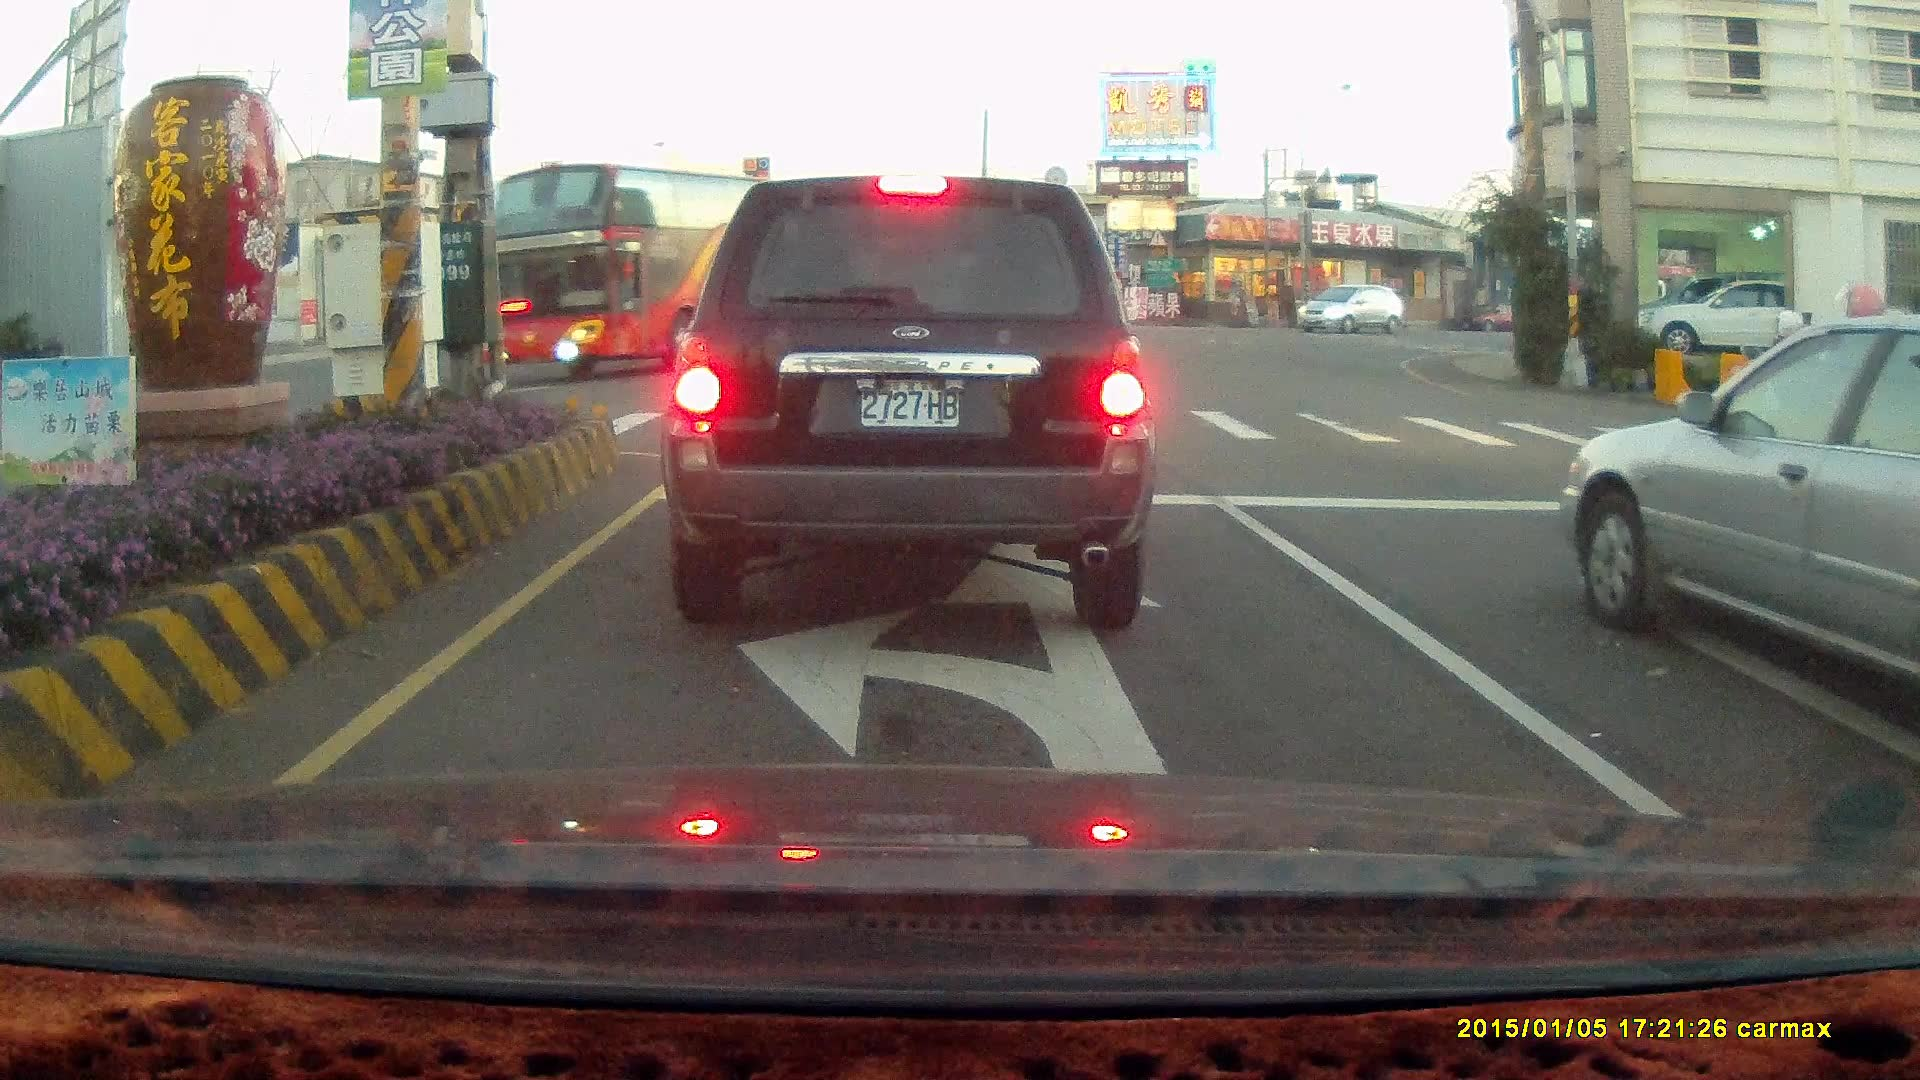vehicle: (657, 173, 1155, 630), (1556, 311, 1920, 760), (1561, 314, 1920, 703), (512, 255, 716, 347), (1629, 276, 1833, 359), (1642, 276, 1784, 356), (1896, 493, 1920, 836), (1296, 284, 1406, 339)
